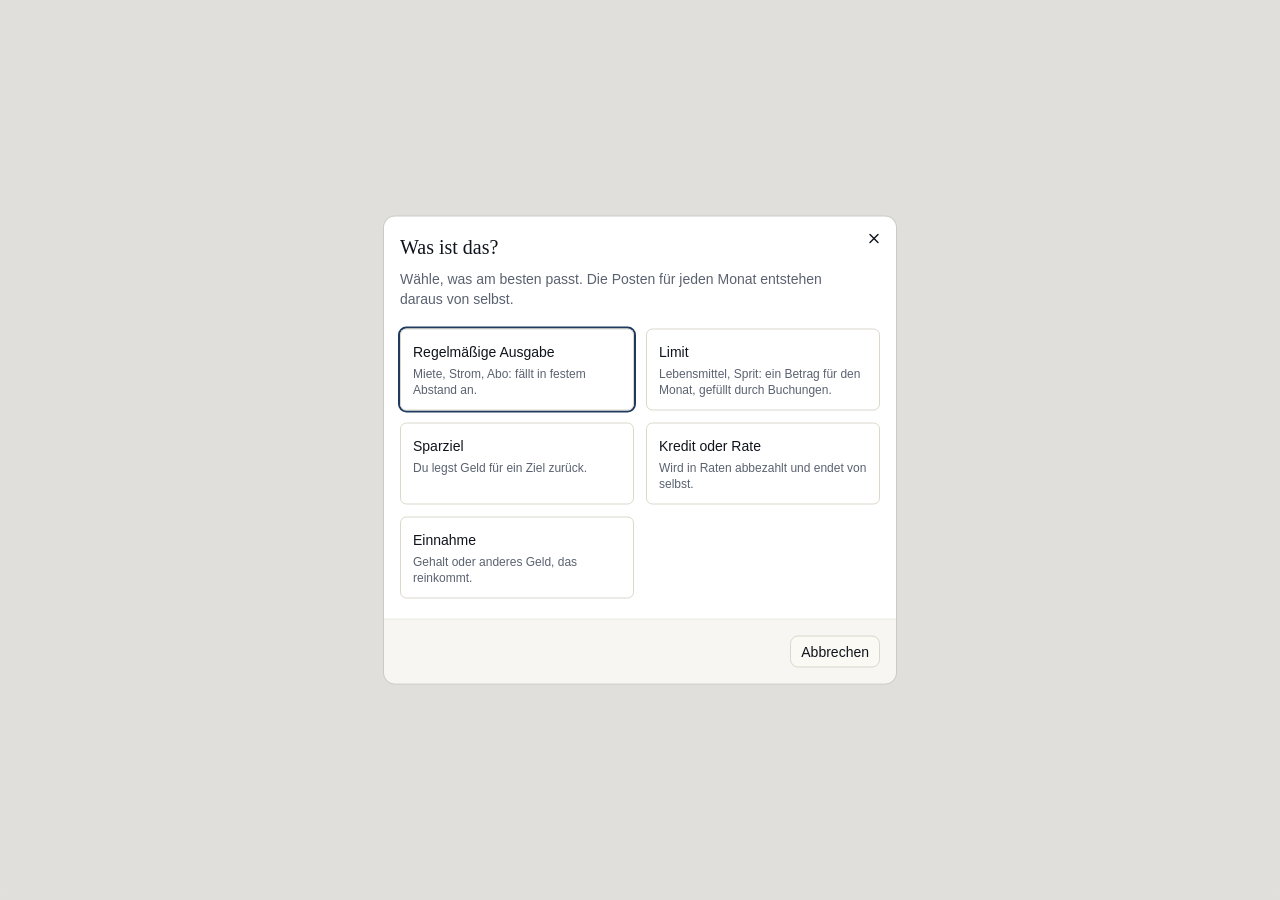
it: CommitmentDialog › a card leads to the fields of that kind, named in the title
Step 1. Click the button "Kredit oder Rate" → [763, 464], box [646,422,880,504]
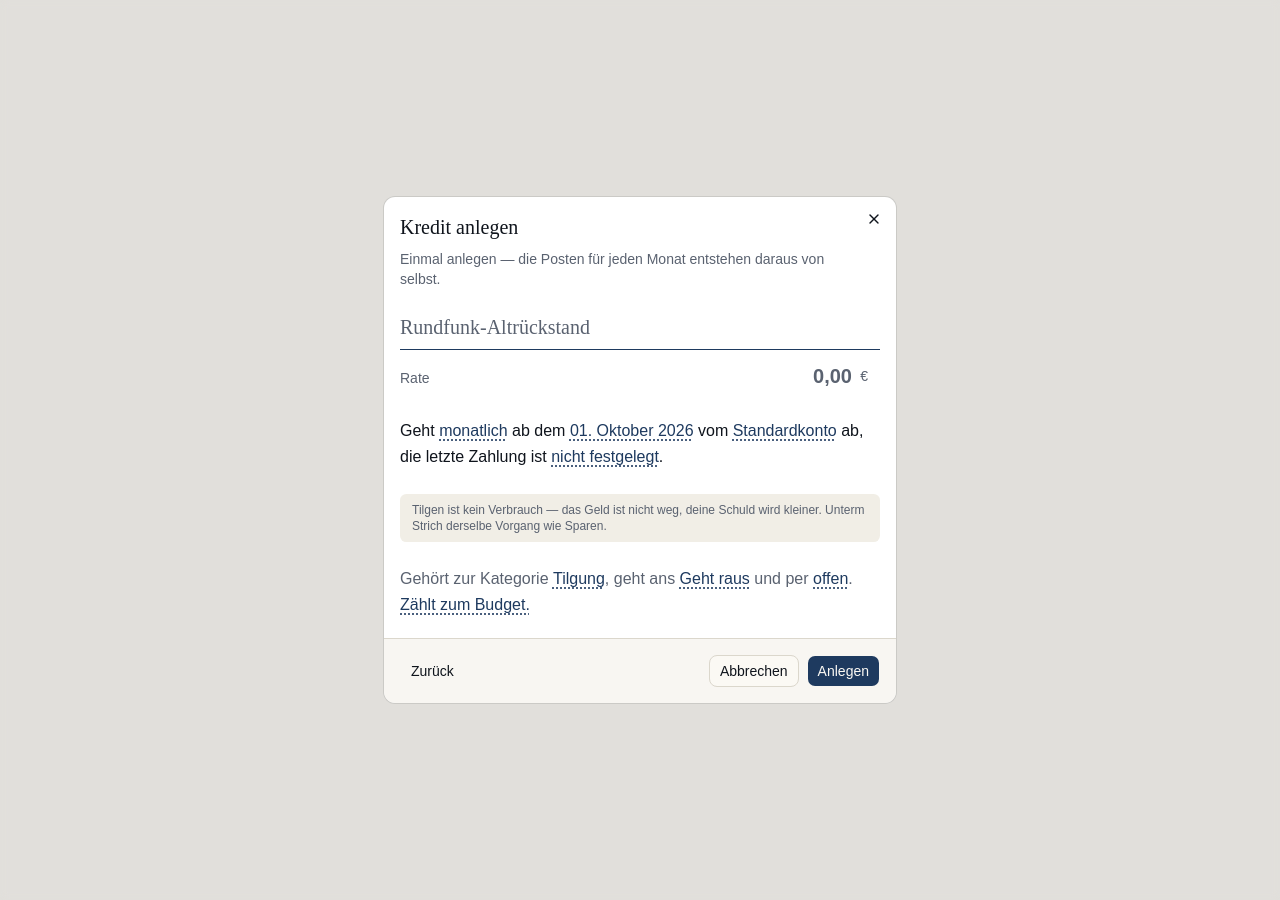
Check: the dialog "Kredit anlegen" is shown, box [384,197,896,703]
Check: the field labelled "Rate" is shown, box [442,358,880,394]
